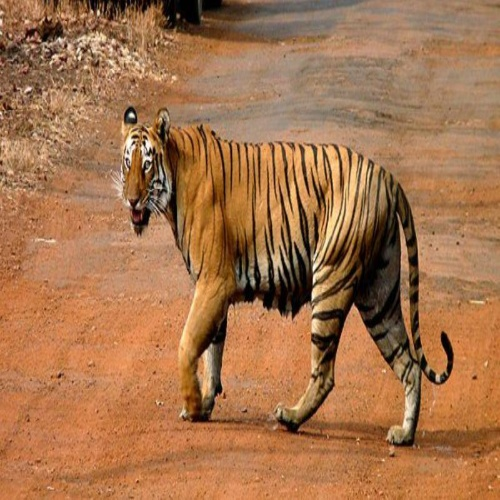tiger: (86, 66, 482, 458)
